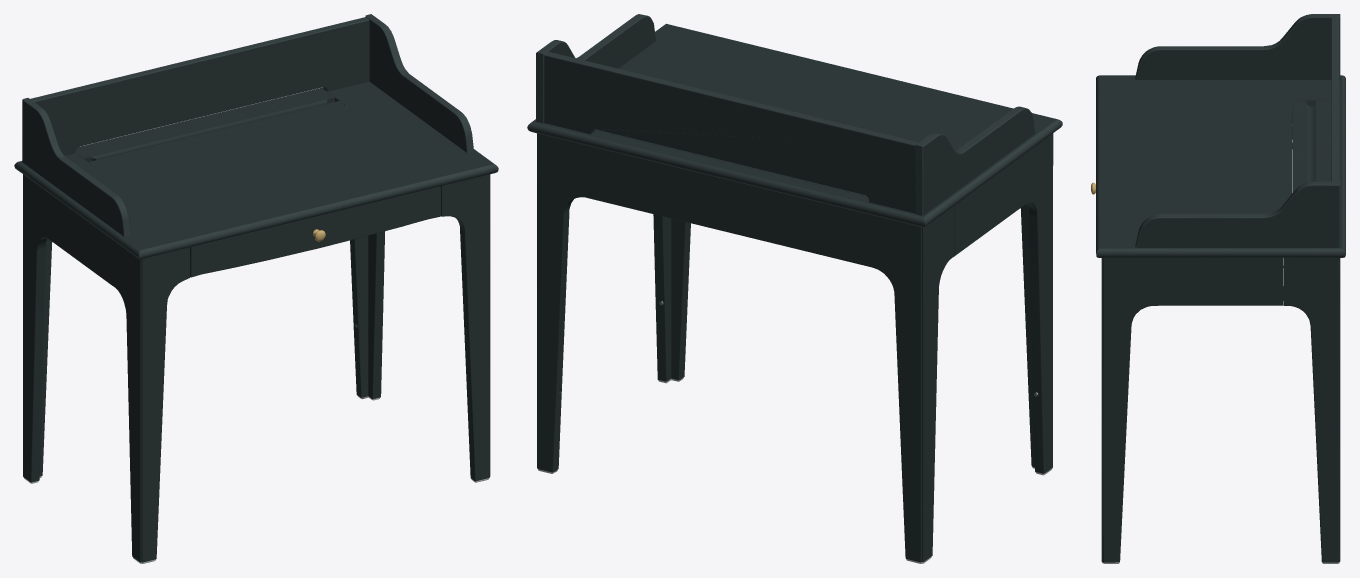
Rendered from LOMMARP desk.glb.
3 views of the same model, side by side, from view 1: azimuth 30°, elevation 25°; view 2: azimuth 150°, elevation 25°; view 3: azimuth 270°, elevation 25° (orthographic). The views are drawn at different scales.
Visible parts, largest first — view 1: 20442827-LOMMARP001; view 2: 20442827-LOMMARP001; view 3: 20442827-LOMMARP001.
Part boxes in pixels (x1=…): 20442827-LOMMARP001: x1=14, y1=14, x2=498, y2=563; 20442827-LOMMARP001: x1=527, y1=14, x2=1062, y2=563; 20442827-LOMMARP001: x1=1091, y1=14, x2=1345, y2=563.
Bounding box in the file's own units: 0.9002 × 0.905 × 0.5509.
Materials: 1 (1 with a texture image).
